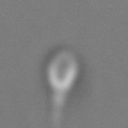normal: (48, 89, 69, 128)
